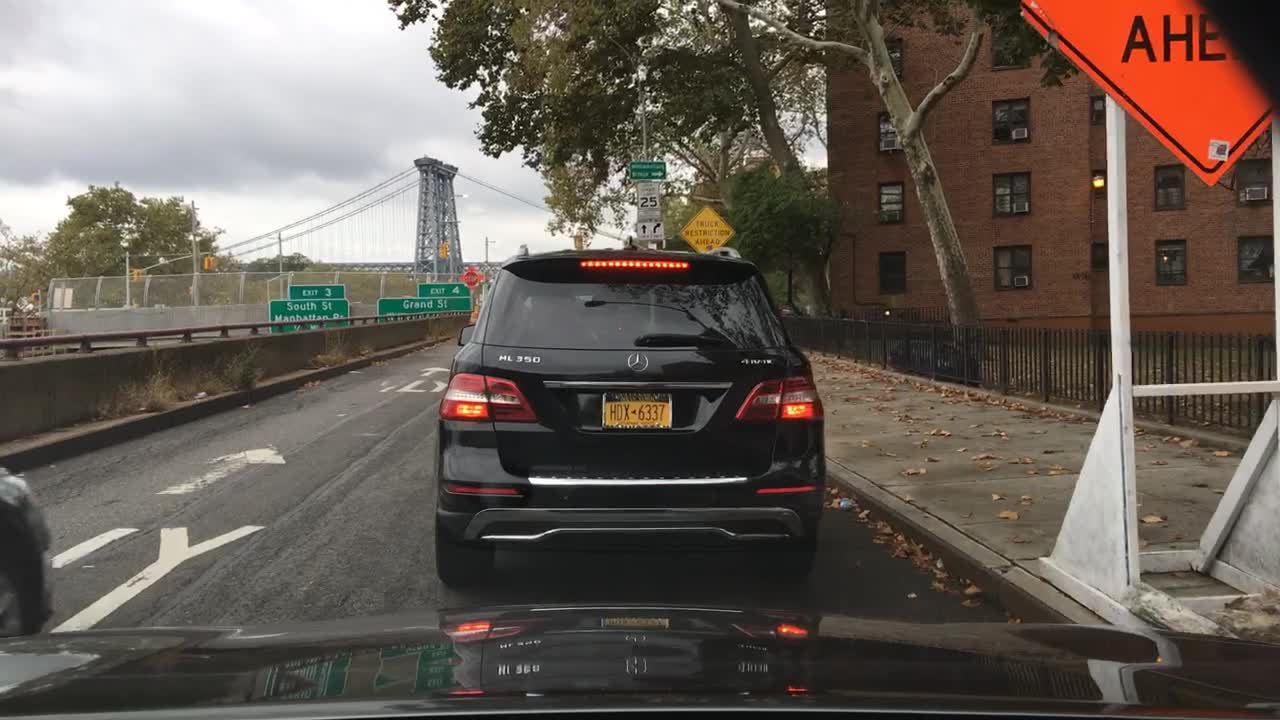car: (433, 236, 825, 591), (0, 466, 55, 640)
traffic light: (573, 231, 584, 250), (132, 269, 143, 281), (204, 257, 215, 269), (441, 243, 448, 258), (31, 293, 39, 303)
traffic sign: (1017, 0, 1279, 187), (268, 298, 350, 334), (679, 205, 734, 254), (377, 296, 471, 323), (636, 182, 662, 219), (290, 285, 343, 299), (629, 160, 664, 179), (417, 284, 468, 296), (636, 222, 664, 239), (52, 287, 72, 307), (462, 268, 480, 286)
